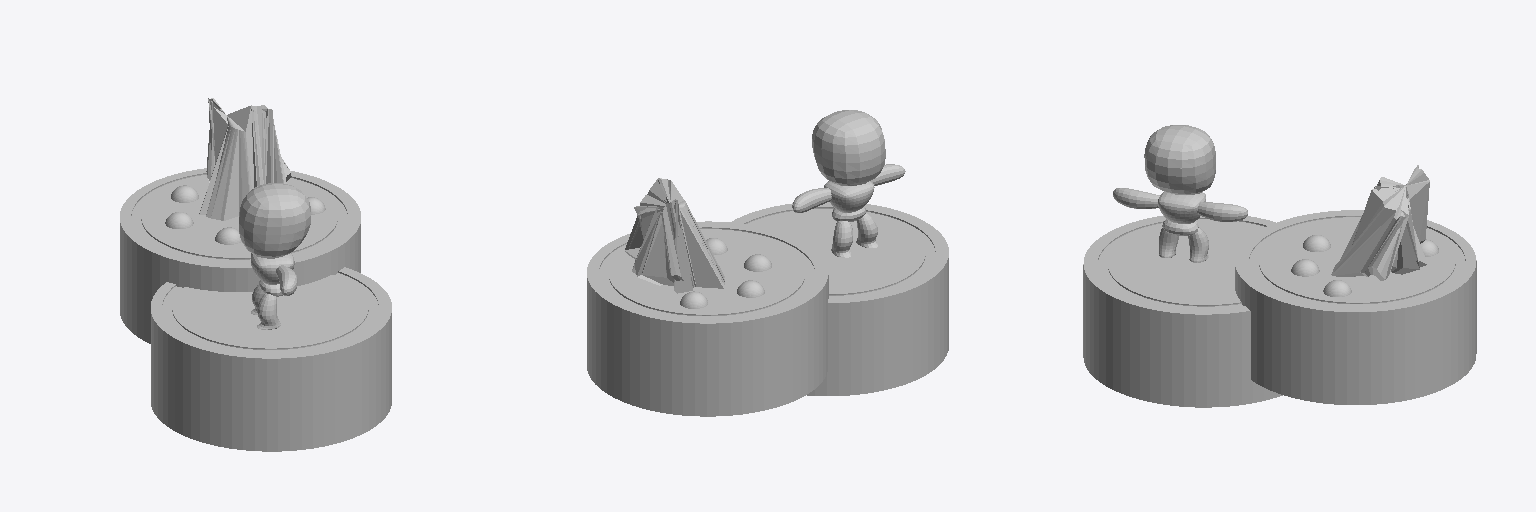
The model's file is Lore Island.obj.
3 views of the same model, side by side, from view 1: azimuth 30°, elevation 25°; view 2: azimuth 150°, elevation 25°; view 3: azimuth 270°, elevation 25° (orthographic).
Visible parts, largest first — view 1: 002_Main_level_grass, 004_Main_level_grass, 001_Merged_Objects_1_-_piece_1, 000_Big_DJ_Statue, 005_Water_-_Treasure_Island_1, 003_Water_-_Treasure_Island_1; view 2: 004_Main_level_grass, 002_Main_level_grass, 000_Big_DJ_Statue, 001_Merged_Objects_1_-_piece_1, 005_Water_-_Treasure_Island_1, 003_Water_-_Treasure_Island_1; view 3: 004_Main_level_grass, 002_Main_level_grass, 000_Big_DJ_Statue, 001_Merged_Objects_1_-_piece_1, 005_Water_-_Treasure_Island_1, 003_Water_-_Treasure_Island_1.
Part boxes in pixels (bbox=[...]): 002_Main_level_grass: bbox=[151, 267, 391, 451]; 004_Main_level_grass: bbox=[120, 168, 360, 343]; 001_Merged_Objects_1_-_piece_1: bbox=[199, 98, 291, 220]; 000_Big_DJ_Statue: bbox=[239, 183, 310, 329]; 005_Water_-_Treasure_Island_1: bbox=[131, 175, 347, 261]; 003_Water_-_Treasure_Island_1: bbox=[162, 273, 378, 352]; 004_Main_level_grass: bbox=[587, 221, 828, 416]; 002_Main_level_grass: bbox=[732, 202, 948, 395]; 000_Big_DJ_Statue: bbox=[792, 110, 905, 257]; 001_Merged_Objects_1_-_piece_1: bbox=[625, 178, 724, 293]; 005_Water_-_Treasure_Island_1: bbox=[599, 229, 814, 318]; 003_Water_-_Treasure_Island_1: bbox=[748, 209, 935, 298]; 004_Main_level_grass: bbox=[1235, 210, 1476, 404]; 002_Main_level_grass: bbox=[1083, 215, 1282, 407]; 000_Big_DJ_Statue: bbox=[1113, 125, 1247, 262]; 001_Merged_Objects_1_-_piece_1: bbox=[1331, 165, 1429, 280]; 005_Water_-_Treasure_Island_1: bbox=[1249, 217, 1465, 306]; 003_Water_-_Treasure_Island_1: bbox=[1098, 219, 1264, 308].
Bounding box in the file's own units: 282 × 236 × 378.